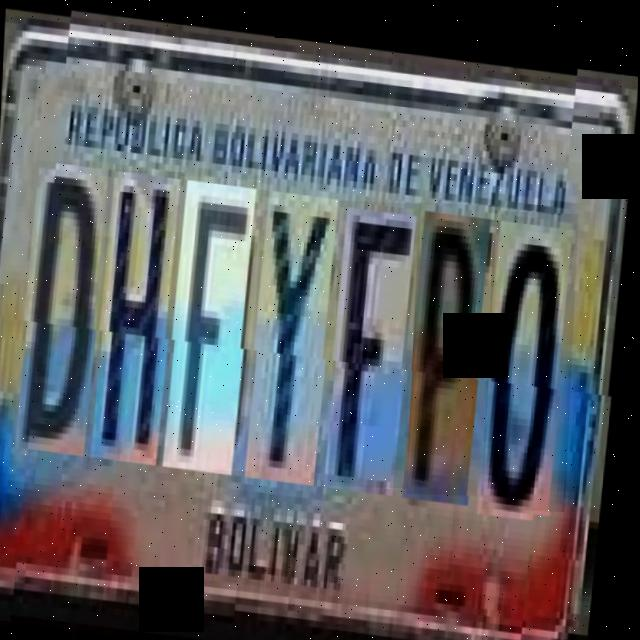D: (21, 160, 115, 453)
F: (170, 175, 262, 470), (330, 198, 424, 486)
H: (97, 168, 187, 461)
O: (485, 208, 581, 509)
P: (409, 200, 499, 494)
Y: (253, 184, 344, 479)
